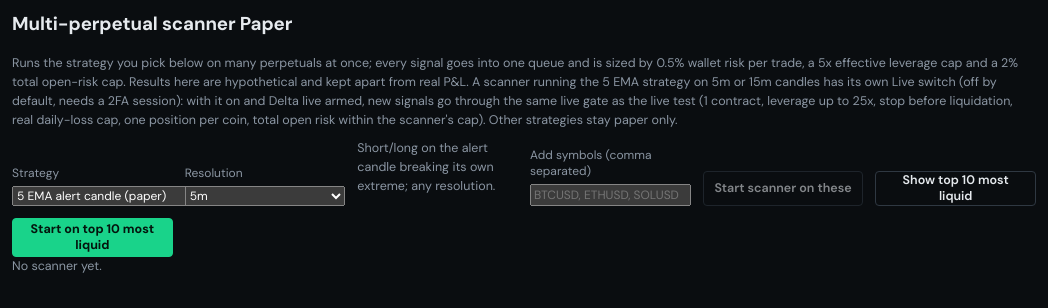
Test: CryptoScanner strategy picker › offers the strategies and sends the chosen one
Later steps or results of the test are not shown.
Select "Funding extremes (Unproven, frozen parameters)" in the dropdown named "Scanner strategy" at (162,196), box [12,186,312,206]
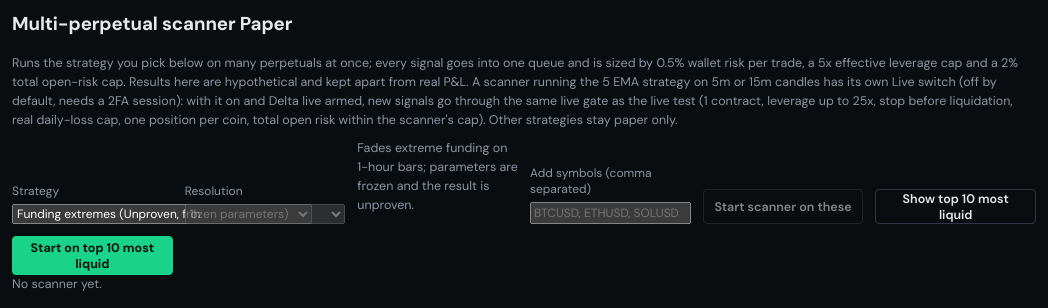
Expected: the dropdown named "Scanner resolution" is disabled, [185,204,345,224]
